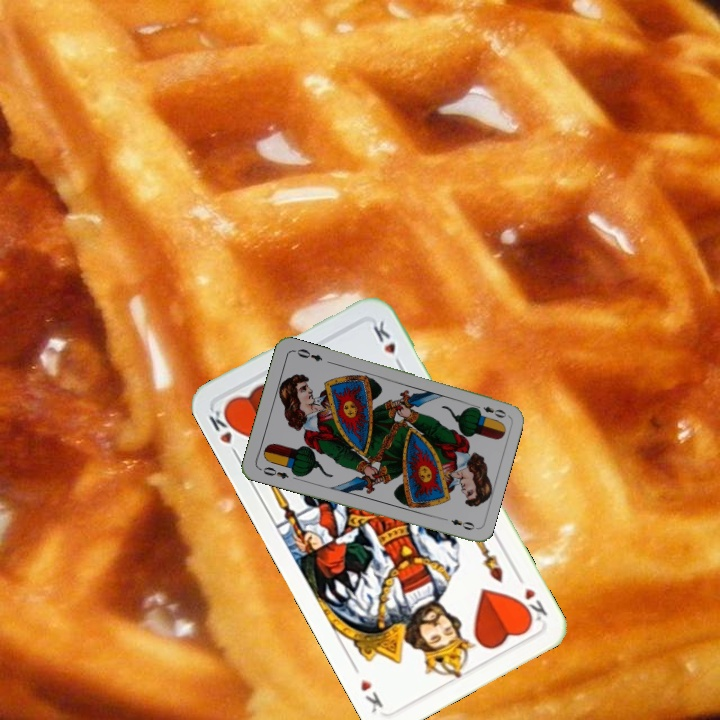EO: (470, 400, 509, 420), (256, 463, 291, 481)
HK: (204, 403, 242, 461), (514, 583, 550, 628)
